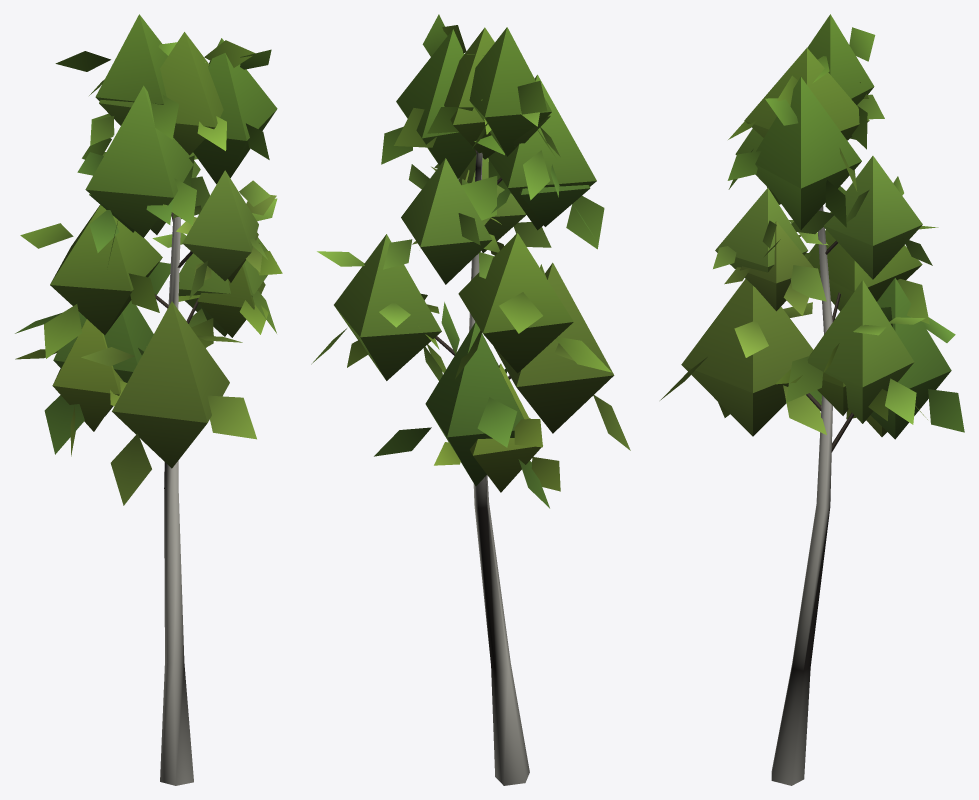
Rendered from birch_b_lod.glb.
The picture shows the model from 3 angles, left to right: view 1: azimuth 30°, elevation 25°; view 2: azimuth 150°, elevation 25°; view 3: azimuth 270°, elevation 25°; orthographic projection. The views are drawn at different scales.
Visible parts, largest first — view 1: birch_b_lod; view 2: birch_b_lod; view 3: birch_b_lod.
Part boxes in pixels (x1,y1,x2,y2): birch_b_lod: [15, 14, 282, 785]; birch_b_lod: [311, 14, 630, 785]; birch_b_lod: [660, 14, 964, 785].
Bounding box in the file's own units: 3.48 × 9.67 × 3.53.
